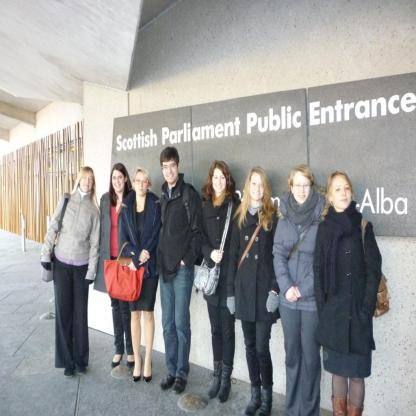face: (293, 175, 312, 205), (333, 181, 352, 209), (250, 176, 265, 201), (212, 170, 228, 193), (164, 162, 178, 184), (136, 174, 148, 196), (113, 173, 126, 192), (81, 173, 94, 192)
